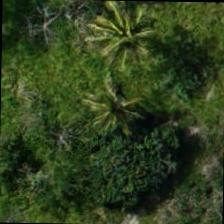Kelapa_Sawit: (79, 0, 171, 84)
